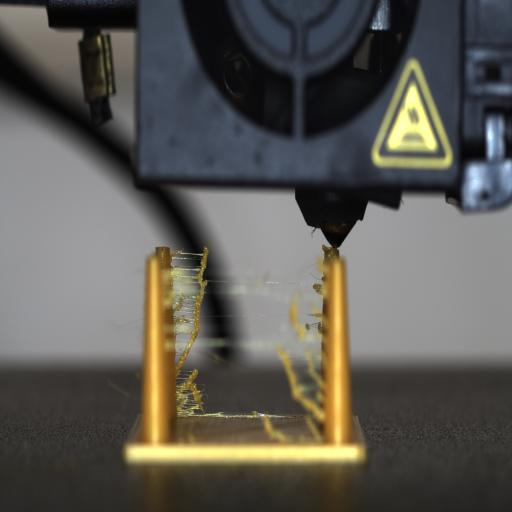stringing: (174, 248, 324, 437)
